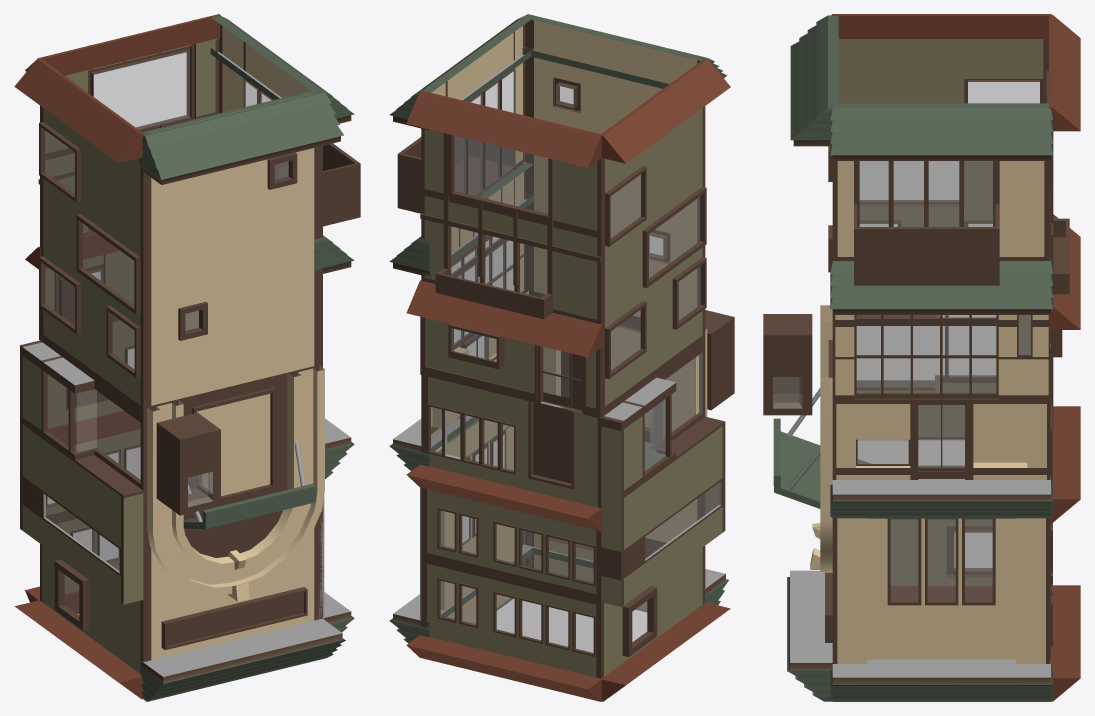
Rendered from Immeuble_01.fbx.
3 views of the same model, side by side, from view 1: azimuth 30°, elevation 25°; view 2: azimuth 150°, elevation 25°; view 3: azimuth 270°, elevation 25° (orthographic). The views are drawn at different scales.
Parts seen in each view (by area): view 1: Immeuble_01; view 2: Immeuble_01; view 3: Immeuble_01.
Boxes of the visible parts, x1,y1,x2,y2 form: Immeuble_01: (14, 14, 360, 701); Immeuble_01: (389, 14, 734, 701); Immeuble_01: (763, 14, 1080, 701).
Size of the model in its own units: 180 by 384 by 186.
